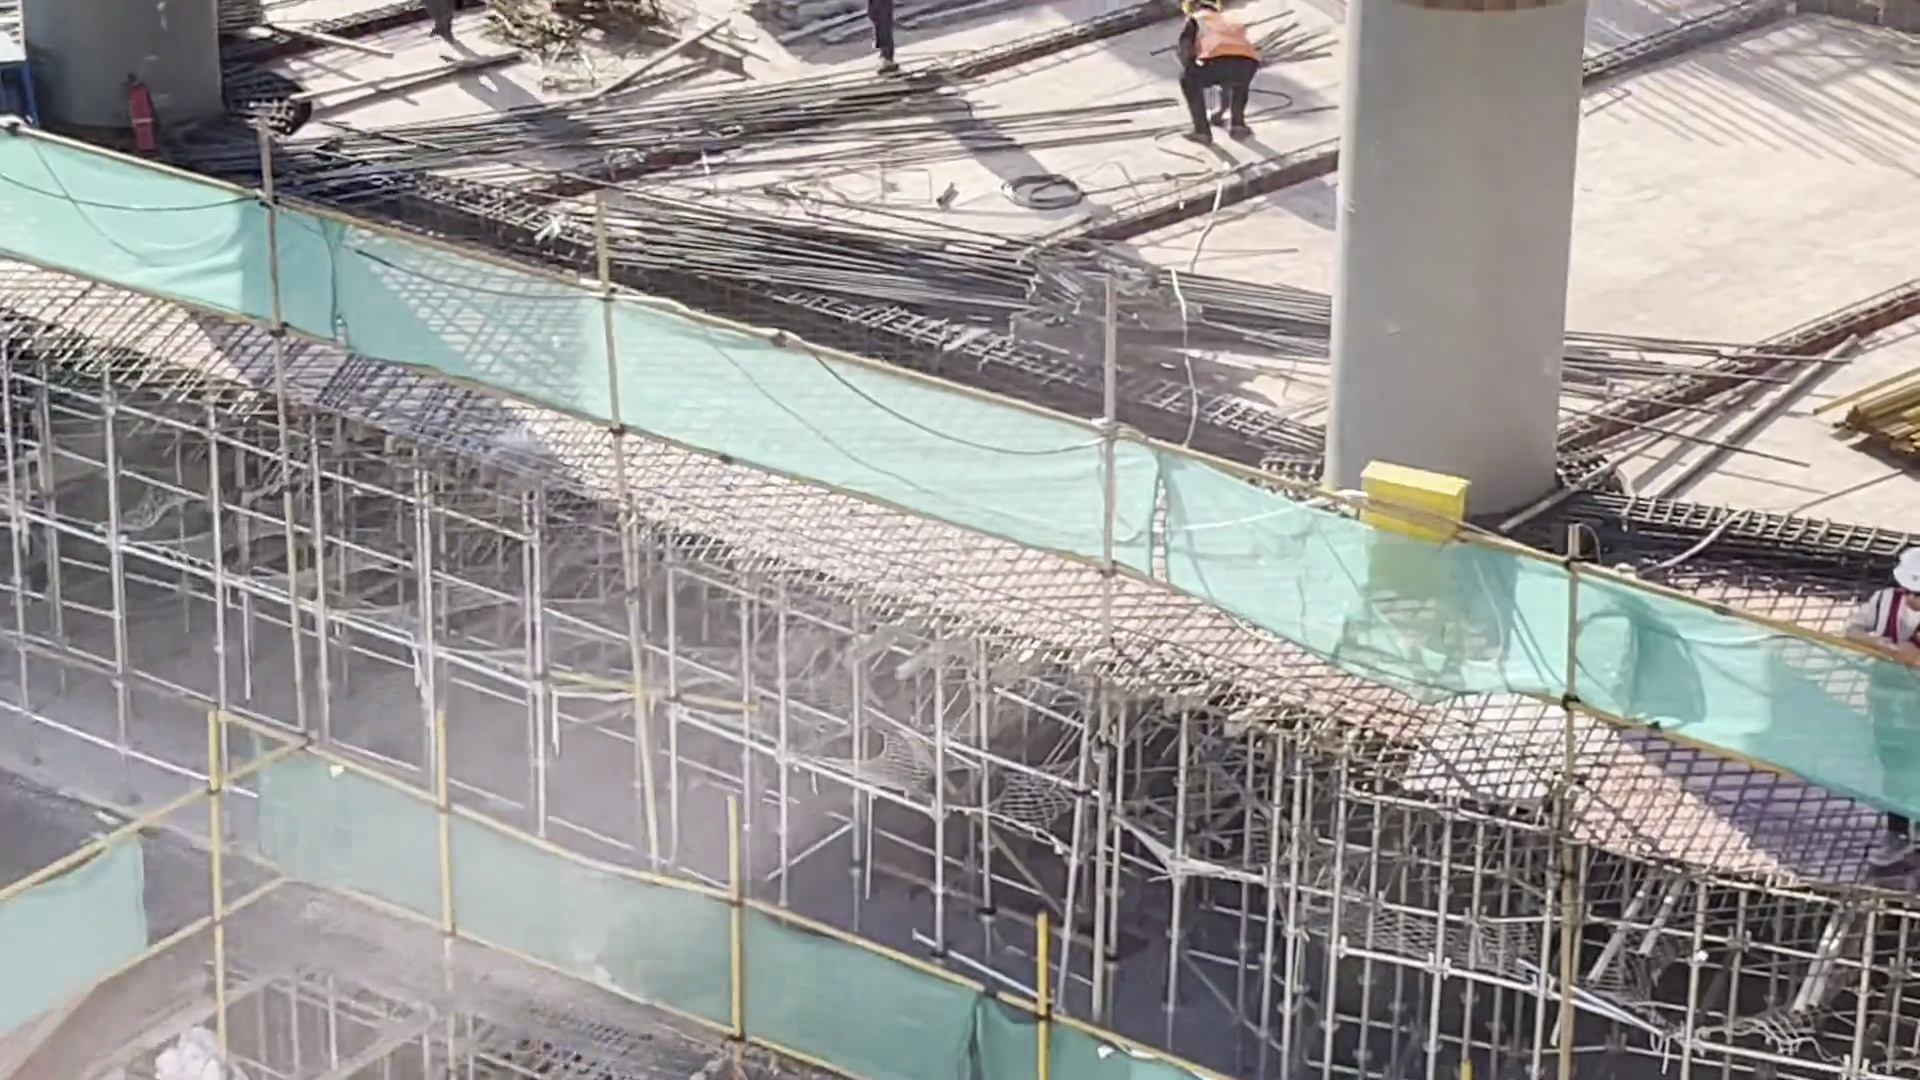ebox: (1347, 460, 1469, 631)
helmet: (1890, 541, 1920, 589)
person: (1858, 530, 1920, 858), (1170, 1, 1270, 142)
vest: (1174, 15, 1268, 75), (1878, 594, 1920, 710)
